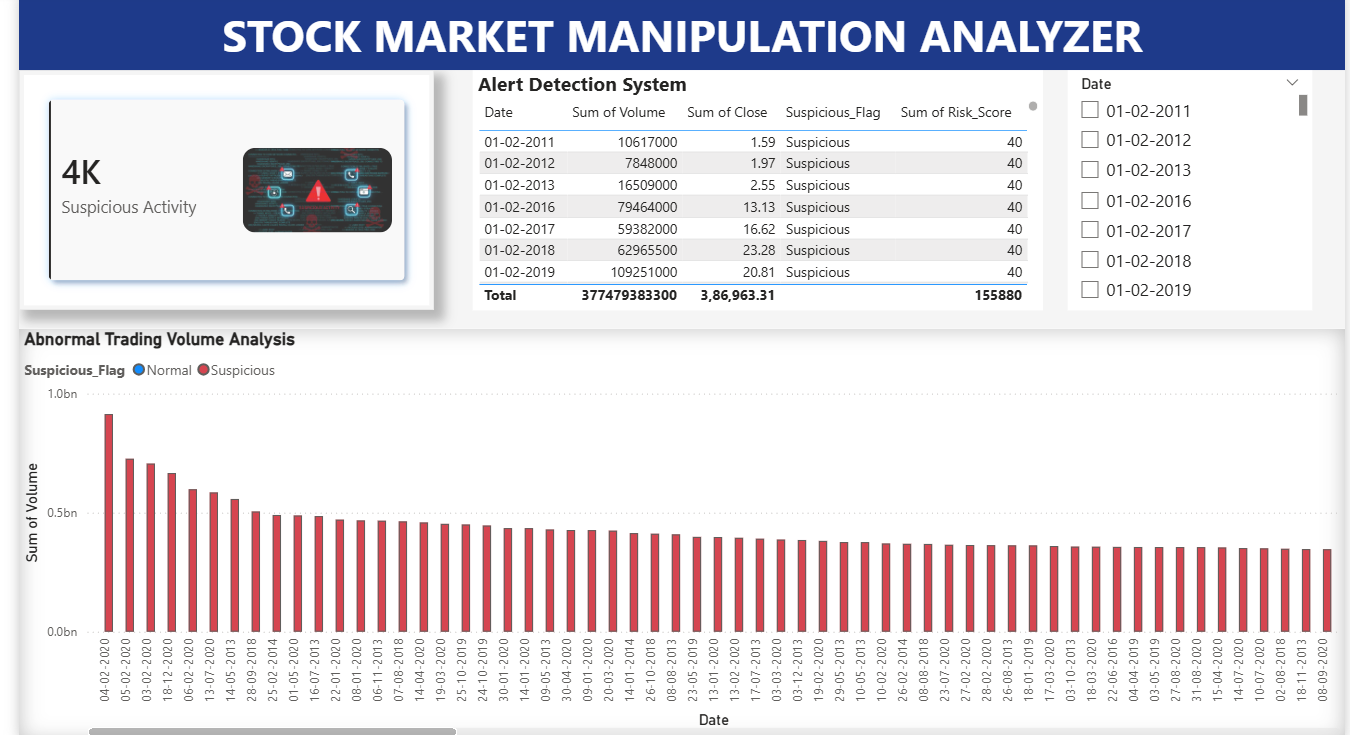

The page's visual inventory and layout, read from the dashboard file:
{"tool":"powerbi","page":{"name":"Suspicious Activity","canvas":[1280,720],"ordinal":1},"visuals":[{"type":"tableEx","title":"Alert Detection System","fields":{"Values":["stock_market_analysis tesla_stock.Date","Sum(stock_market_analysis tesla_stock.Volume)","Sum(stock_market_analysis tesla_stock.Close)","stock_market_analysis tesla_stock.Suspicious_Flag","Sum(stock_market_analysis tesla_stock.Risk_Score)"]},"box":[437.8,72.1,550.3,232.3],"z":0},{"type":"cardVisual","title":"To","fields":{"Data":["stock_market_analysis tesla_stock.Suspicious_Days_Count"]},"box":[0,72.1,401.1,232.3],"z":1000},{"type":"clusteredColumnChart","title":"Abnormal Trading Volume Analysis","fields":{"Category":["stock_market_analysis tesla_stock.Date"],"Y":["Sum(stock_market_analysis tesla_stock.Volume)"],"Series":["stock_market_analysis tesla_stock.Suspicious_Flag"]},"box":[0,322.1,1280,398.1],"z":2000},{"type":"slicer","fields":{"Values":["stock_market_analysis tesla_stock.Date"]},"box":[1012.5,72.1,236,232.3],"z":3000},{"type":"textbox","box":[0,3.7,1280.3,68.5],"z":4000}]}

Visuals, with their boxes on the page's 1280x720 design canvas (x1, y1, x2, y2). These are canvas units, not pixel positions in the 1350x735 screenshot, which may show the page scaled, cropped or inside an application window:
"Alert Detection System" tableEx: crop(438, 72, 988, 304)
"To" cardVisual: crop(0, 72, 401, 304)
"Abnormal Trading Volume Analysis" clusteredColumnChart: crop(0, 322, 1280, 720)
slicer - stock_market_analysis tesla_stock.Date: crop(1012, 72, 1248, 304)
textbox: crop(0, 4, 1280, 72)
